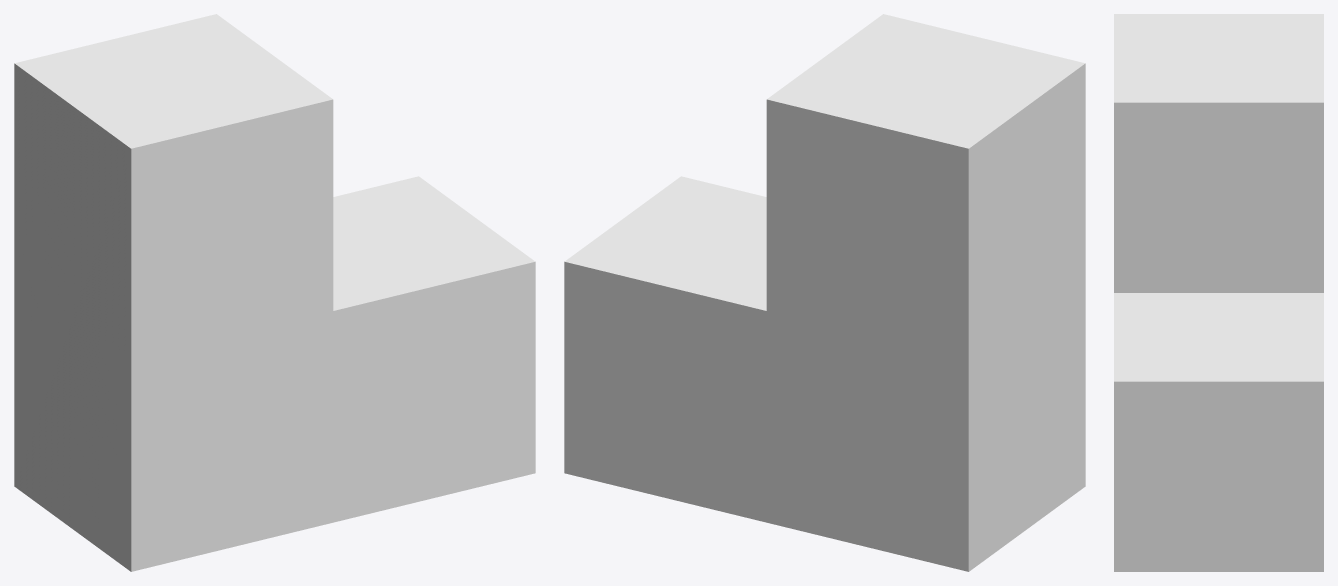
File: Skeleton_Foot.dae
3 renders of one model, left to right at view 1: azimuth 30°, elevation 25°; view 2: azimuth 150°, elevation 25°; view 3: azimuth 270°, elevation 25°, orthographic. The views are drawn at different scales.
Parts seen in each view (by area): view 1: Skeleton_Foot; view 2: Skeleton_Foot; view 3: Skeleton_Foot.
Part boxes in pixels (<box>): Skeleton_Foot: <box>14,14,535,571</box>; Skeleton_Foot: <box>564,14,1085,571</box>; Skeleton_Foot: <box>1114,14,1323,571</box>.
Bounding box in the file's own units: 0.2 × 0.2 × 0.1.
1 material, 1 textured.
